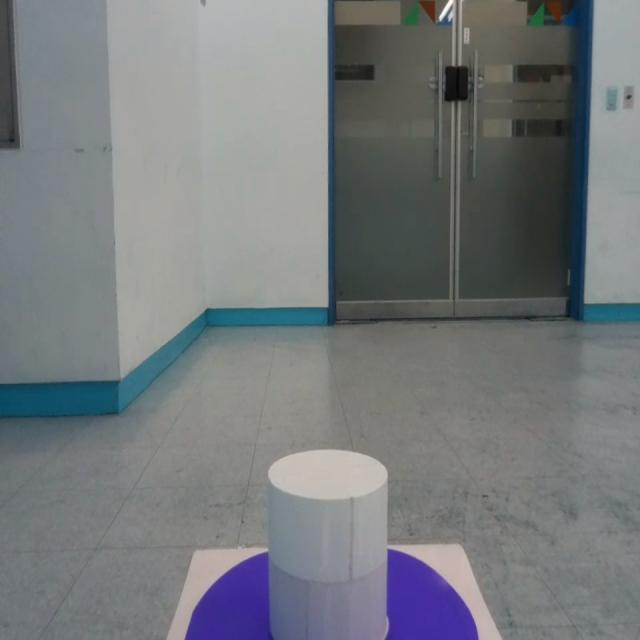cylinder: (265, 450, 389, 639)
